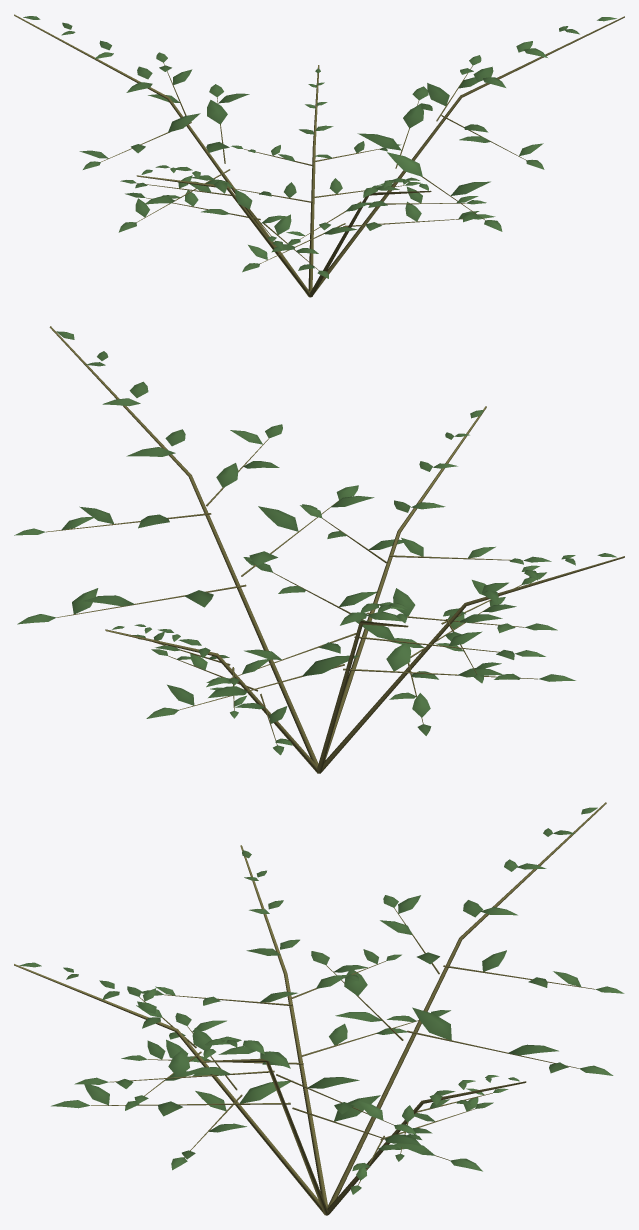
The model's file is bracken_fern.glb.
3 views of the same model, one above another, from view 1: azimuth 30°, elevation 25°; view 2: azimuth 150°, elevation 25°; view 3: azimuth 270°, elevation 25° (orthographic). The views are drawn at different scales.
Visible parts, largest first — view 1: bracken_fern; view 2: bracken_fern; view 3: bracken_fern.
Part boxes in pixels (bbox=[...]): bracken_fern: bbox=[14, 14, 624, 297]; bracken_fern: bbox=[14, 326, 624, 773]; bracken_fern: bbox=[14, 802, 624, 1215].
Bounding box in the file's own units: 1.53 × 0.7889 × 1.39.
